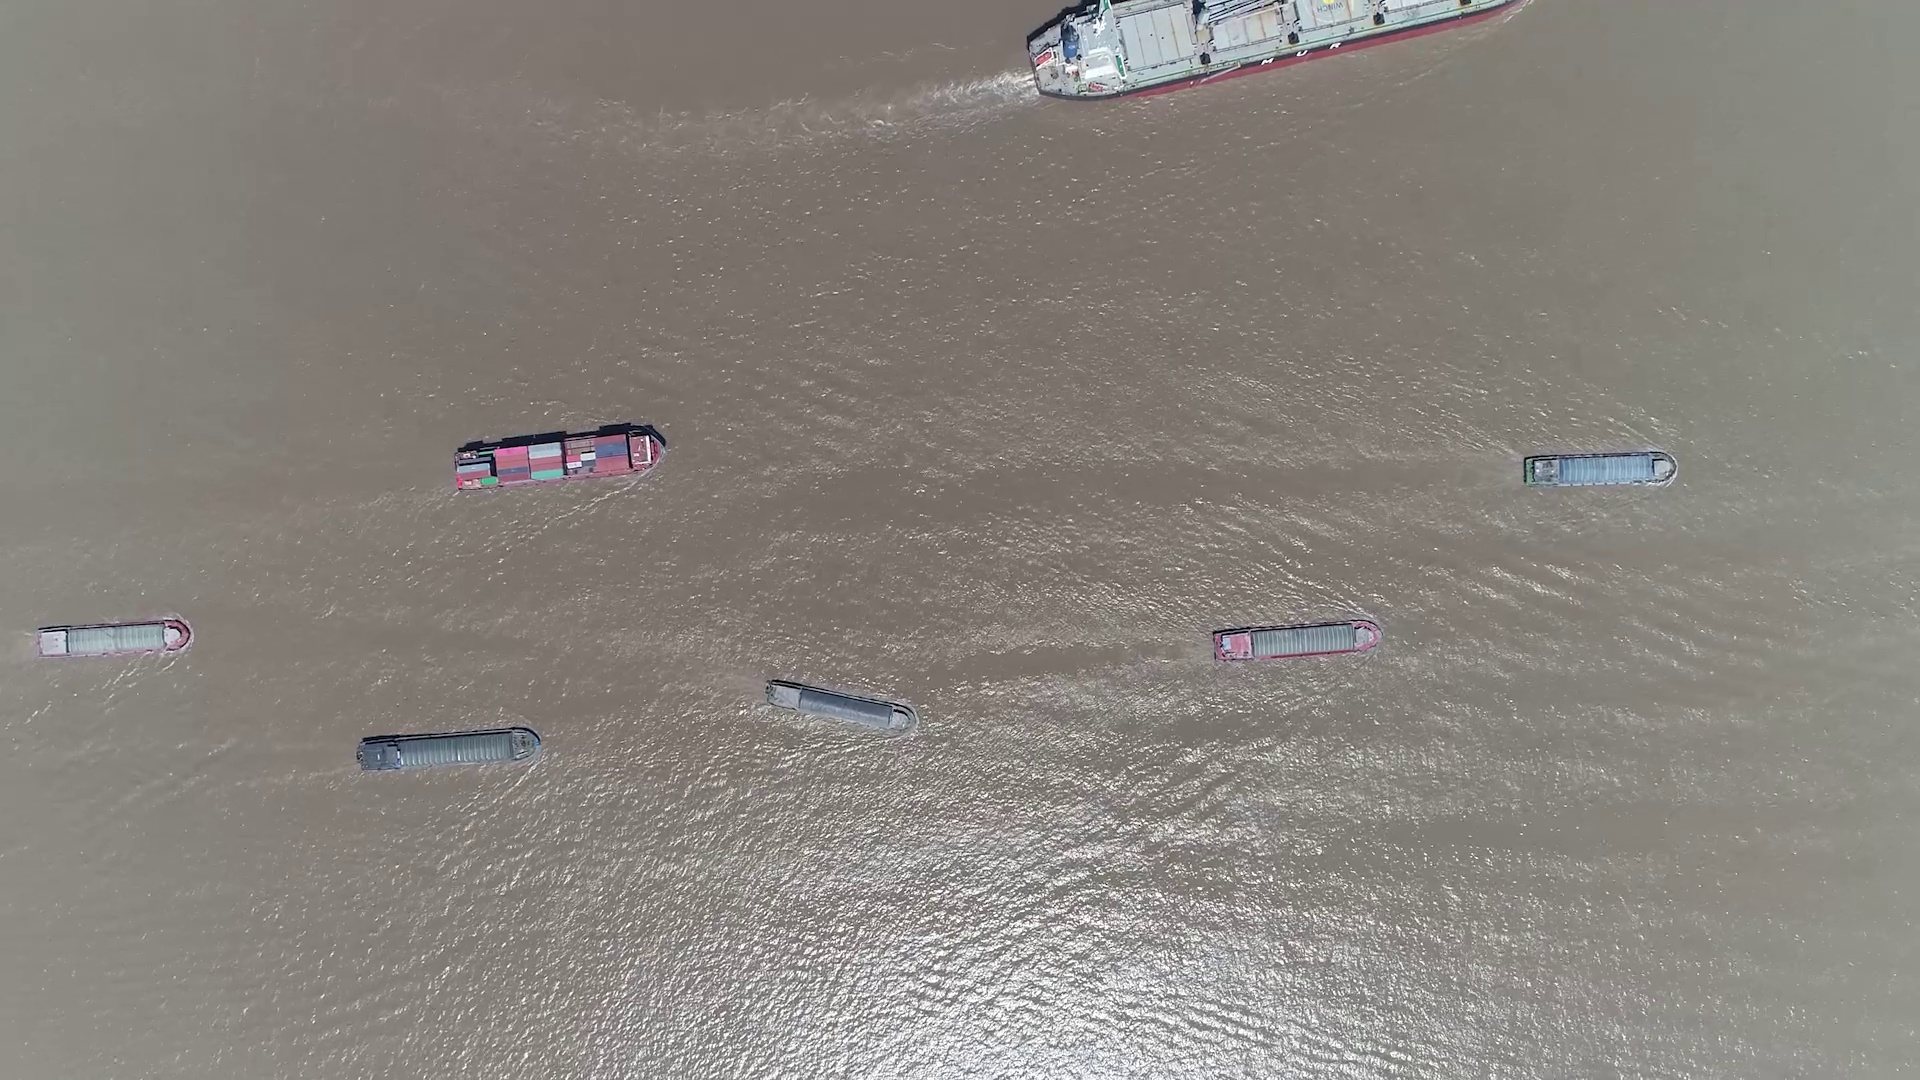ship: (1026, 1, 1519, 98), (454, 427, 666, 491), (764, 680, 918, 735), (357, 727, 541, 771), (1211, 620, 1382, 662), (33, 620, 193, 659), (1523, 451, 1675, 487)
